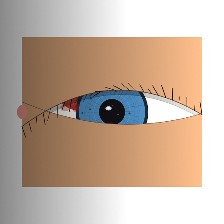hemorrhage_spot: (47, 63, 132, 131)
